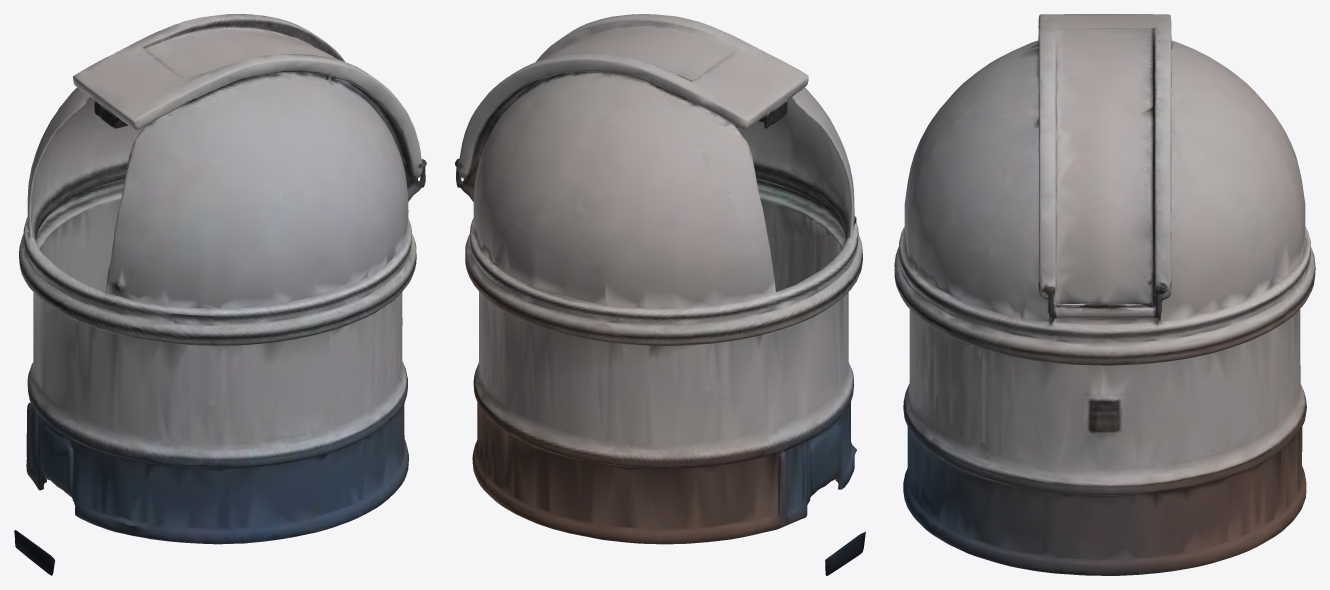
The model's file is observatory.glb.
3 renders of one model, left to right at view 1: azimuth 30°, elevation 25°; view 2: azimuth 150°, elevation 25°; view 3: azimuth 270°, elevation 25°, orthographic. The views are drawn at different scales.
Visible parts, largest first — view 1: tripo_node_39e489f9-58af-4cd3-8f31-db64890919c1; view 2: tripo_node_39e489f9-58af-4cd3-8f31-db64890919c1; view 3: tripo_node_39e489f9-58af-4cd3-8f31-db64890919c1.
Boxes of the visible parts, left/top/right/bottom form: tripo_node_39e489f9-58af-4cd3-8f31-db64890919c1: left=14, top=14, right=426, bottom=575; tripo_node_39e489f9-58af-4cd3-8f31-db64890919c1: left=455, top=14, right=865, bottom=575; tripo_node_39e489f9-58af-4cd3-8f31-db64890919c1: left=894, top=14, right=1315, bottom=575.
Size of the model in its own units: 0.7826 by 0.9747 by 0.7353.
1 material, 1 textured.
